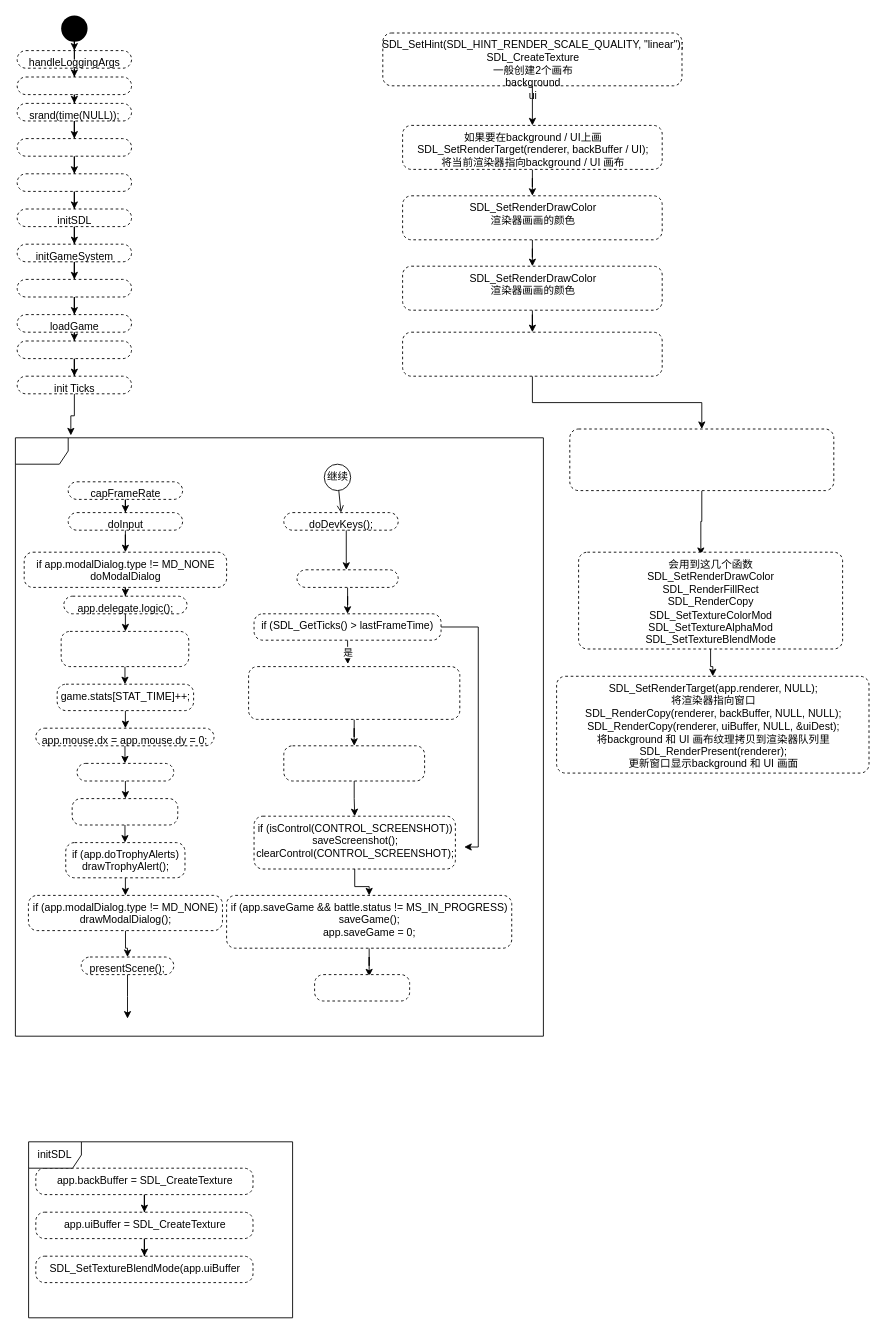
This 884x1333 diagram has some shape labels left out. Each missing label, with the box of its shape:
app.delegate.draw(): (71, 798, 178, 825)
atexit(cleanup): (16, 76, 132, 95)
createScreenshotFolder: (16, 279, 132, 297)
dev.fps = frames; frames = 0; lastFrameTime = SDL_GetTicks() + 1000;: (248, 666, 460, 719)
frames++: (296, 569, 398, 587)
handleMissionArgs: (16, 340, 132, 359)
if (dev.takeScreenshots) saveScreenshot();: (283, 745, 425, 781)
if app.doTrophyAlerts doTrophyAlerts();: (60, 631, 189, 667)
init18N: (16, 138, 132, 156)
initLookups: (16, 173, 132, 191)
loop: (15, 437, 543, 1036)
prepareScene: (76, 763, 174, 781)
SDL_Delay(1);: (314, 974, 410, 1001)
SDL_RenderClear 清空渲染器指向的画布上的之前的内容: (402, 331, 662, 376)
开始画界面 在这中间要画哪个就将渲染器指向哪个 SDL_SetRenderDrawBlendMode 画background / UI前先设置 渲染器为混合模式: (569, 428, 834, 491)
